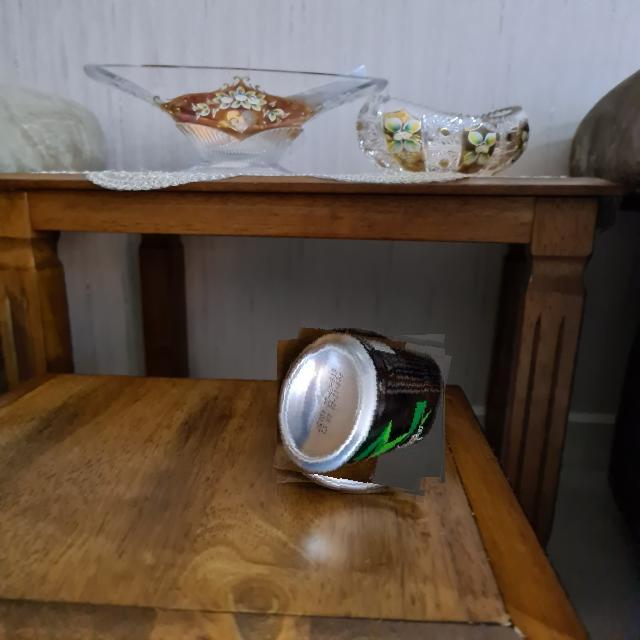recyclable: (277, 328, 446, 496)
